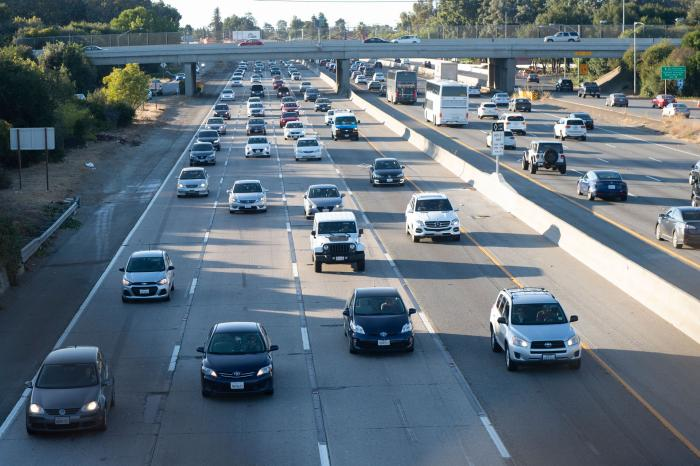car: (25, 346, 117, 435), (490, 288, 582, 371), (196, 322, 278, 396), (344, 288, 417, 357), (311, 211, 366, 273), (120, 250, 175, 303), (408, 195, 460, 244), (577, 171, 629, 202), (522, 141, 568, 172), (226, 181, 267, 213), (175, 166, 209, 198), (367, 159, 404, 186), (550, 118, 587, 141), (244, 135, 271, 157)
